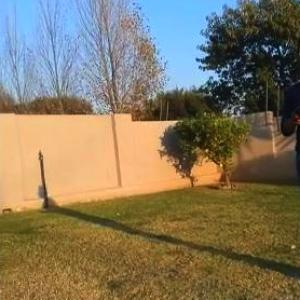follow: (275, 29, 299, 297)
